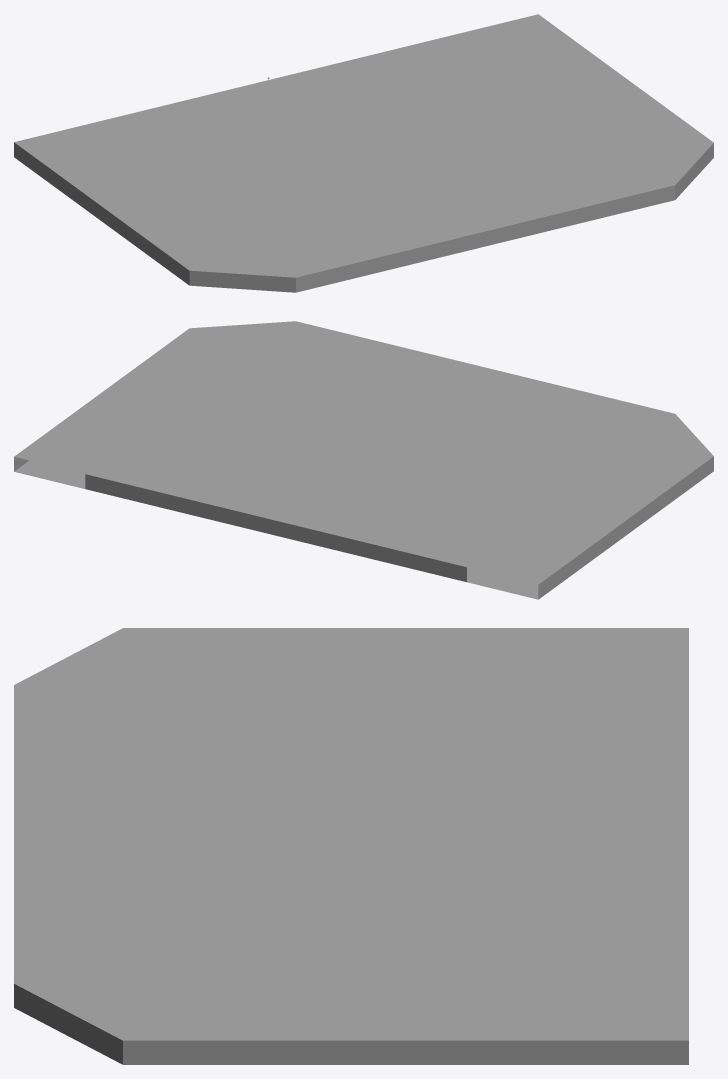
The model's file is LidMeshLaptopLid_30_1_GeomSubset_0.obj.
The picture shows the model from 3 angles, top to bottom: view 1: azimuth 30°, elevation 25°; view 2: azimuth 150°, elevation 25°; view 3: azimuth 270°, elevation 25°; orthographic projection. The views are drawn at different scales.
Parts seen in each view (by area): view 1: LidMeshLaptopLid_30_1_GeomSubset_0; view 2: LidMeshLaptopLid_30_1_GeomSubset_0; view 3: LidMeshLaptopLid_30_1_GeomSubset_0.
Boxes of the visible parts, x1,y1,x2,y2 form: LidMeshLaptopLid_30_1_GeomSubset_0: (14, 14, 713, 292); LidMeshLaptopLid_30_1_GeomSubset_0: (14, 321, 713, 599); LidMeshLaptopLid_30_1_GeomSubset_0: (14, 628, 688, 1064).
Size of the model in its own units: 0.425 by 0.0116 by 0.3046.
